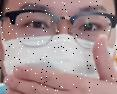with_mask: (1, 2, 117, 94)
